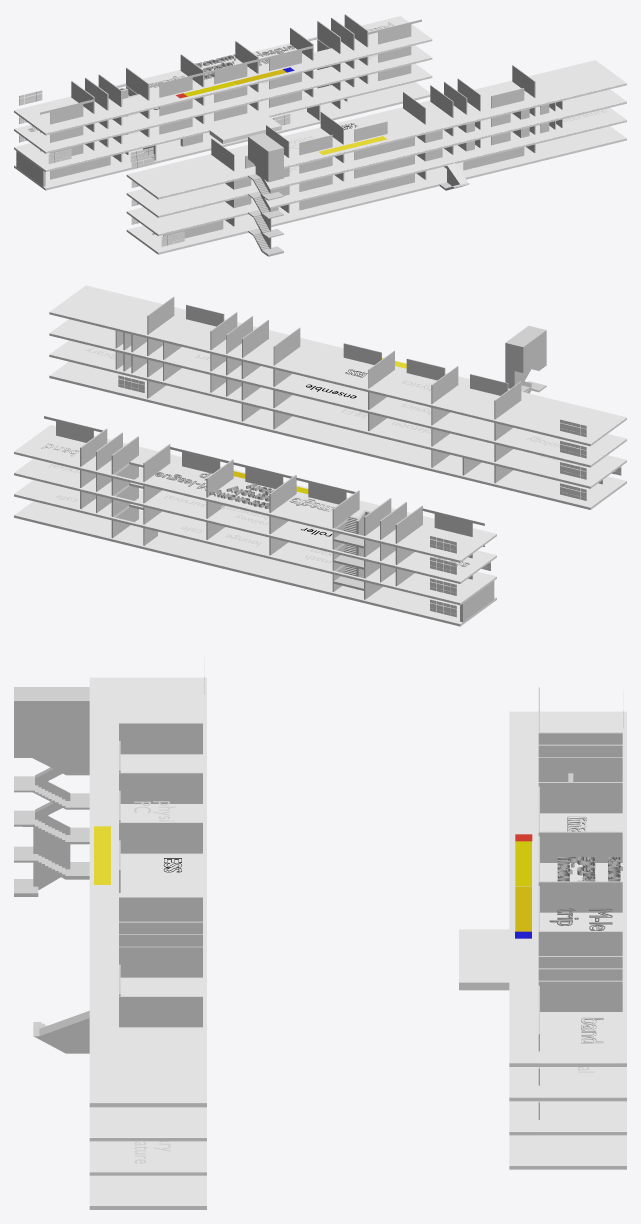
The model's file is frommagictoshogi.glb.
3 renders of one model, top to bottom at view 1: azimuth 30°, elevation 25°; view 2: azimuth 150°, elevation 25°; view 3: azimuth 270°, elevation 25°, orthographic. The views are drawn at different scales.
Parts seen in each view (by area): view 1: floor S 4F, floor 4F, floor S 3F, floor S 2F, floor S 1F, floor 3F, floor 2F, floor 1F, Str S 4F, wall HomeRoom~HomeRoom.002, ceiling Gate.001, wall 1C~1C (+35 smaller); view 2: floor S 4F, floor S 1F, floor S 2F, floor S 3F, floor 4F, floor 1F, floor 2F, floor 3F, Str S 4F, 天文 地歴, wall Civics~Civics, wall 1D~1D (+27 smaller); view 3: floor S 4F, floor 4F, Str S 4F, floor 1F, floor S 3F, floor S 1F, floor 2F, floor 3F, floor S 2F, ceiling Gate.001, Str S 1F, wall 1A~Out.001 (+24 smaller).
Part boxes in pixels (bbox=[...]): floor S 4F: bbox=[126, 60, 626, 199]; floor 4F: bbox=[14, 16, 432, 135]; floor S 3F: bbox=[126, 89, 626, 217]; floor S 2F: bbox=[126, 108, 626, 236]; floor S 1F: bbox=[126, 126, 626, 254]; floor 3F: bbox=[14, 45, 432, 153]; floor 2F: bbox=[14, 63, 432, 172]; floor 1F: bbox=[14, 82, 430, 190]; Str S 4F: bbox=[248, 133, 283, 200]; wall HomeRoom~HomeRoom.002: bbox=[299, 174, 414, 210]; ceiling Gate.001: bbox=[209, 116, 281, 143]; wall 1C~1C: bbox=[204, 59, 257, 84]; floor S 4F: bbox=[49, 285, 626, 446]; floor S 1F: bbox=[49, 361, 626, 509]; floor S 2F: bbox=[49, 340, 626, 488]; floor S 3F: bbox=[49, 319, 626, 467]; floor 4F: bbox=[14, 425, 496, 562]; floor 1F: bbox=[14, 501, 496, 626]; floor 2F: bbox=[14, 480, 496, 605]; floor 3F: bbox=[14, 459, 496, 583]; Str S 4F: bbox=[505, 326, 546, 392]; 天文 地歴: bbox=[209, 483, 274, 508]; wall Civics~Civics: bbox=[422, 508, 484, 536]; wall 1D~1D: bbox=[296, 477, 355, 504]; floor S 4F: bbox=[89, 677, 206, 1107]; floor 4F: bbox=[509, 711, 626, 1066]; Str S 4F: bbox=[14, 687, 89, 792]; floor 1F: bbox=[509, 1135, 626, 1169]; floor S 3F: bbox=[89, 1107, 206, 1141]; floor S 1F: bbox=[89, 1175, 206, 1209]; floor 2F: bbox=[509, 1101, 626, 1135]; floor 3F: bbox=[509, 1067, 626, 1101]; floor S 2F: bbox=[89, 1141, 206, 1175]; ceiling Gate.001: bbox=[459, 929, 509, 990]; Str S 1F: bbox=[33, 842, 89, 1053]; wall 1A~Out.001: bbox=[119, 996, 202, 1027].
Bounding box in the file's own units: 90 × 21 × 54.75.
